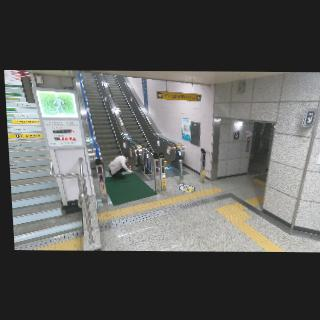anomaly: (108, 152, 134, 179)
